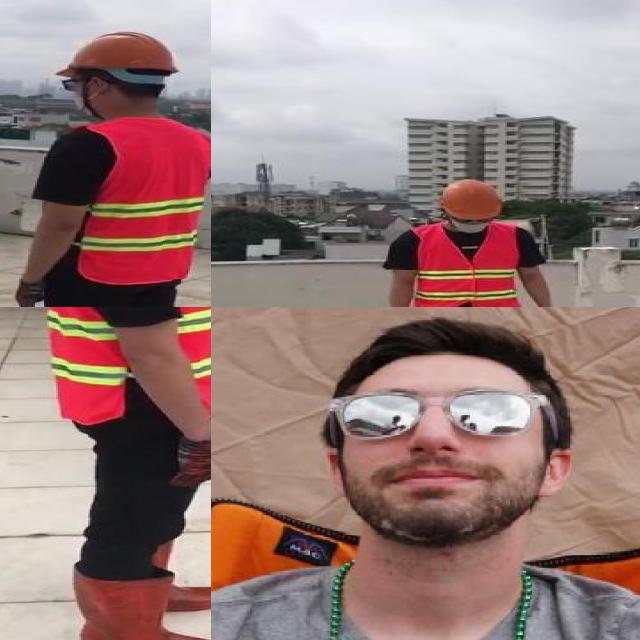No_Ear-Protection: (534, 433, 576, 515)
boots: (68, 566, 211, 640), (146, 540, 211, 612)
face_mask: (449, 214, 494, 234)
face_nomask: (339, 381, 533, 510)
glasses: (329, 378, 567, 439)
hand_glove: (167, 437, 211, 487), (13, 281, 47, 307)
head_helmet: (51, 27, 176, 76), (438, 178, 505, 220)
head_nohelmet: (341, 316, 544, 379)
person: (211, 319, 640, 640), (23, 307, 211, 640), (0, 18, 211, 307), (384, 174, 563, 307)
vest: (74, 118, 211, 283), (49, 307, 211, 426), (407, 224, 522, 307)
